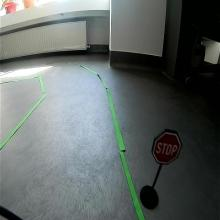stop: (152, 129, 182, 165)
